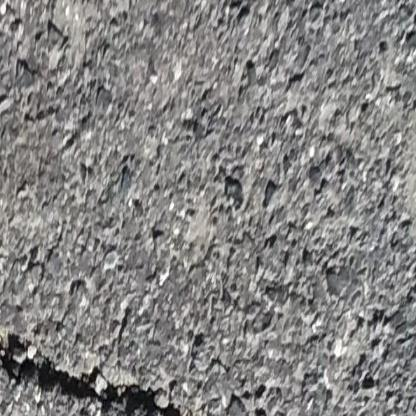Cracks: (0, 330, 209, 416)
